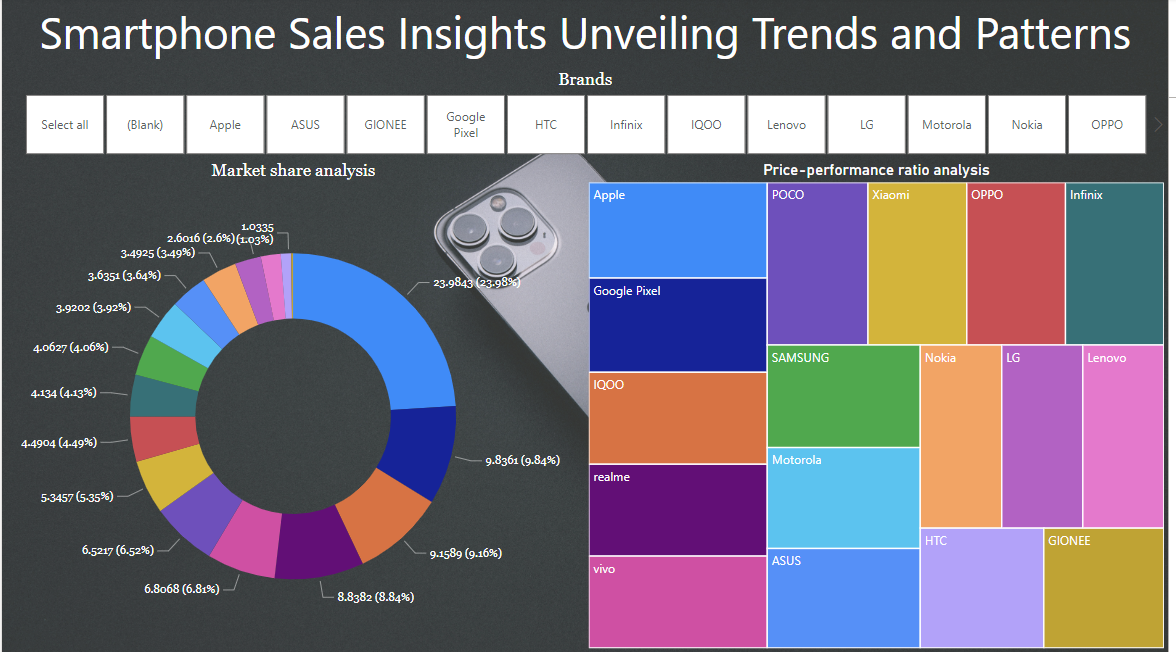

This screenshot's page, from the dashboard's own definition file:
{"tool":"powerbi","page":{"name":"Dashboard 7","canvas":[1280,720],"ordinal":1},"visuals":[{"type":"textbox","box":[0,0,1280.3,79.6],"z":0},{"type":"slicer","title":"Brands","fields":{"Values":["1.Brand"]},"box":[0,79.6,1280.3,100.2],"z":1000},{"type":"donutChart","title":"Market share analysis","fields":{"Category":["18.Brand"],"Y":["Sum(18.MarketShare)"]},"box":[0,179.8,639.5,540.7],"z":2000},{"type":"treemap","title":"Price-performance ratio analysis","fields":{"Group":["19.Brand"],"Values":["Sum(19.AvgRating)"]},"box":[639.5,179.8,640.8,540.7],"z":3000}]}

Visuals, with their boxes in screenshot pixels (x1, y1, x2, y2), scaled from the page's 1280x720 canvas onto the 1176x652 screenshot:
textbox: left=0, top=0, right=1175, bottom=72
"Brands" slicer: left=0, top=72, right=1175, bottom=163
"Market share analysis" donutChart: left=0, top=163, right=588, bottom=651
"Price-performance ratio analysis" treemap: left=588, top=163, right=1175, bottom=651
